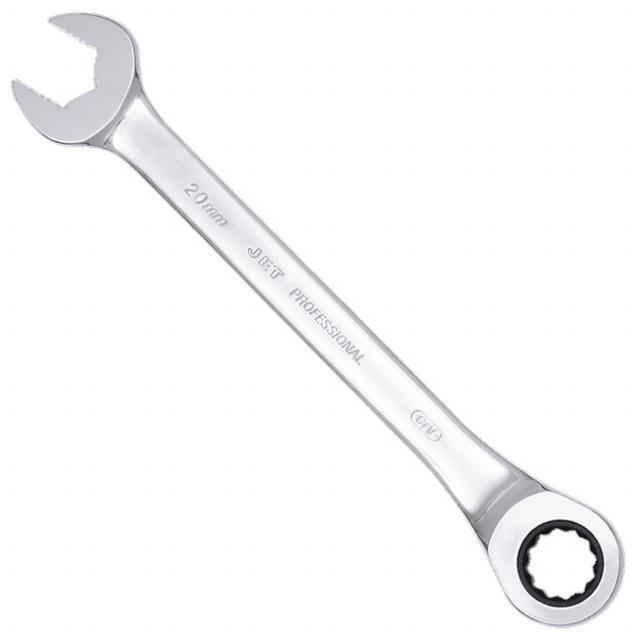wrench: (8, 7, 626, 624)
